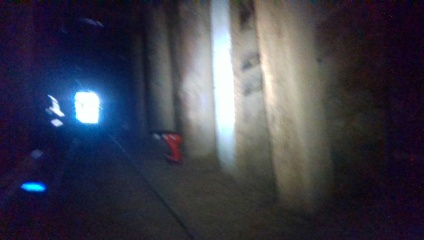drill: (159, 131, 183, 165)
manikin: (37, 79, 124, 146)
